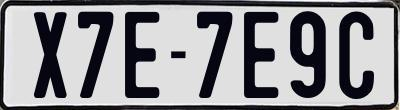7: (194, 12, 231, 99), (76, 9, 112, 98)
9: (290, 11, 326, 103)
C: (338, 9, 378, 101)
E: (123, 11, 163, 98), (244, 11, 280, 102)
X: (34, 9, 73, 99)
